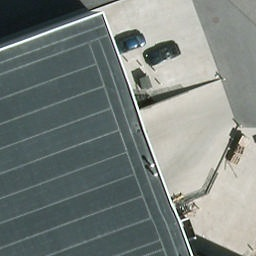car: (146, 41, 182, 66), (113, 32, 146, 56)
